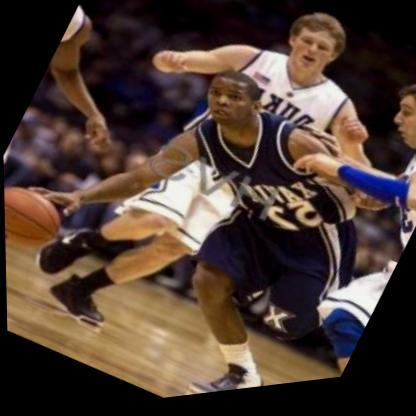basketball: (3, 163, 74, 266)
